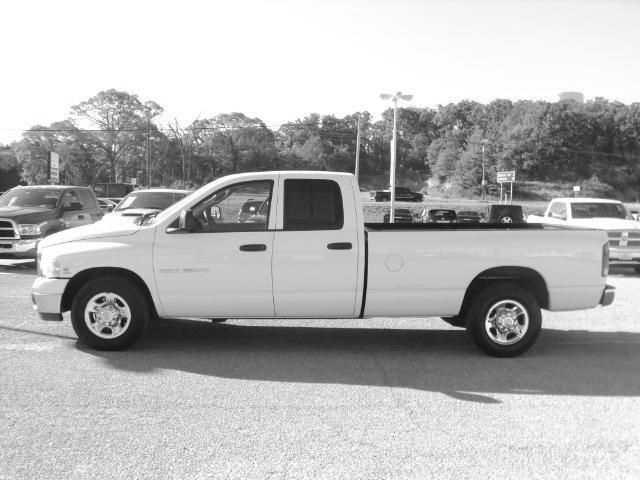car: (30, 167, 621, 358)
